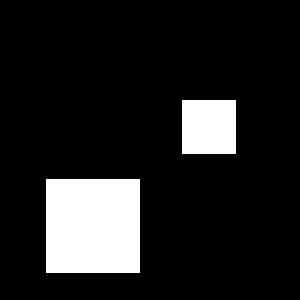circle: (46, 179, 140, 273), (182, 100, 236, 154), (46, 206, 98, 258)
